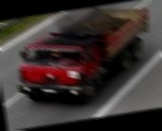truck: (7, 2, 161, 114)
